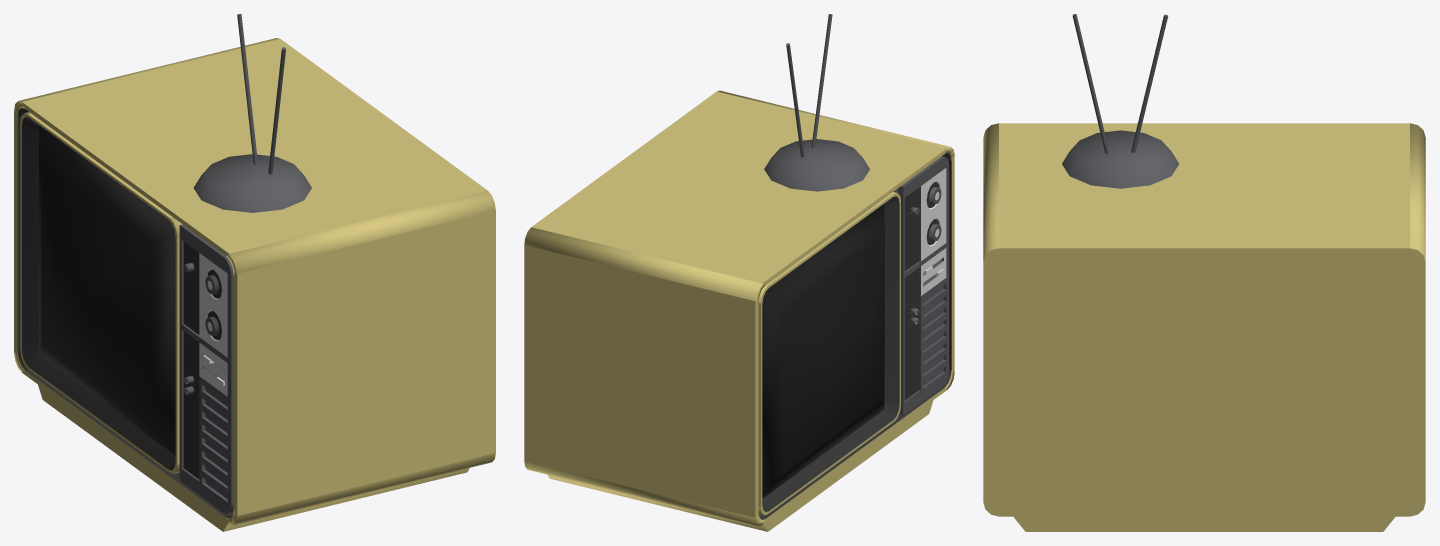
The model's file is old_tv.glb.
3 renders of one model, left to right at view 1: azimuth 30°, elevation 25°; view 2: azimuth 150°, elevation 25°; view 3: azimuth 270°, elevation 25°, orthographic. The views are drawn at different scales.
Visible parts, largest first — view 1: tv; view 2: tv; view 3: tv.
Boxes of the visible parts, left/top/right/bottom form: tv: left=14, top=14, right=495, bottom=531; tv: left=524, top=14, right=954, bottom=531; tv: left=983, top=14, right=1425, bottom=531.
Size of the model in its own units: 2.19 by 3.29 by 2.99.
